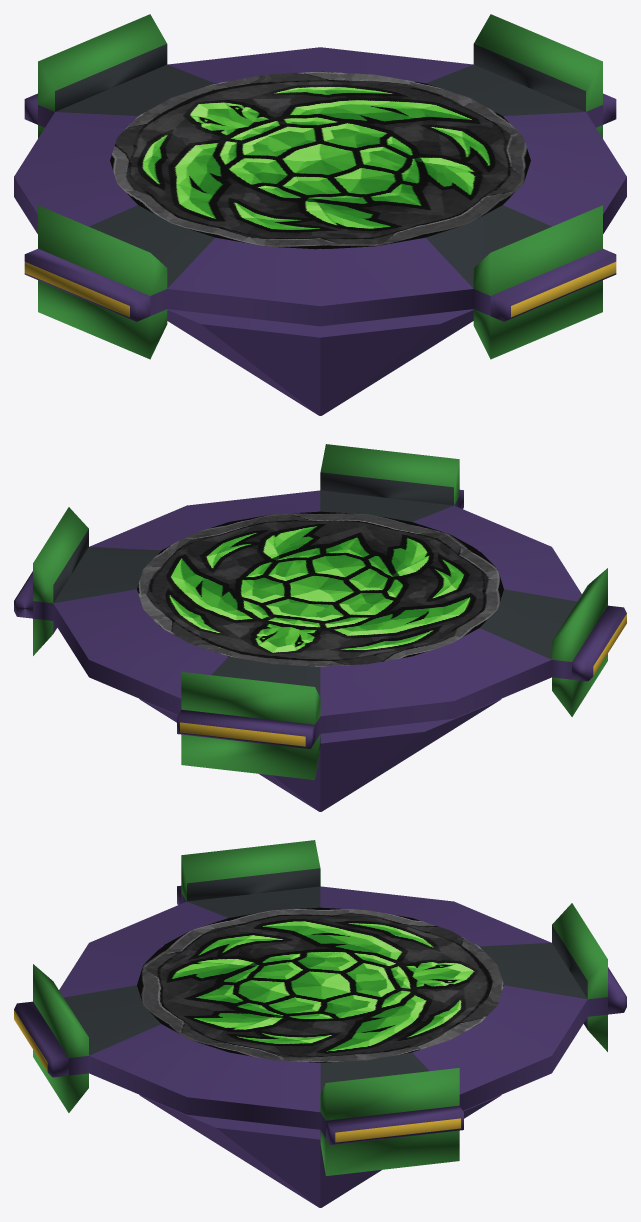
Rendered from TurtleBB.fbx.
The picture shows the model from 3 angles, top to bottom: view 1: azimuth 30°, elevation 25°; view 2: azimuth 150°, elevation 25°; view 3: azimuth 270°, elevation 25°; orthographic projection. The views are drawn at different scales.
Visible parts, largest first — view 1: Cylinder; view 2: Cylinder; view 3: Cylinder.
Boxes of the visible parts, x1,y1,x2,y2 form: Cylinder: (14,14,626,415); Cylinder: (14,444,626,811); Cylinder: (14,840,626,1207).
Size of the model in its own units: 294 by 130 by 294.
